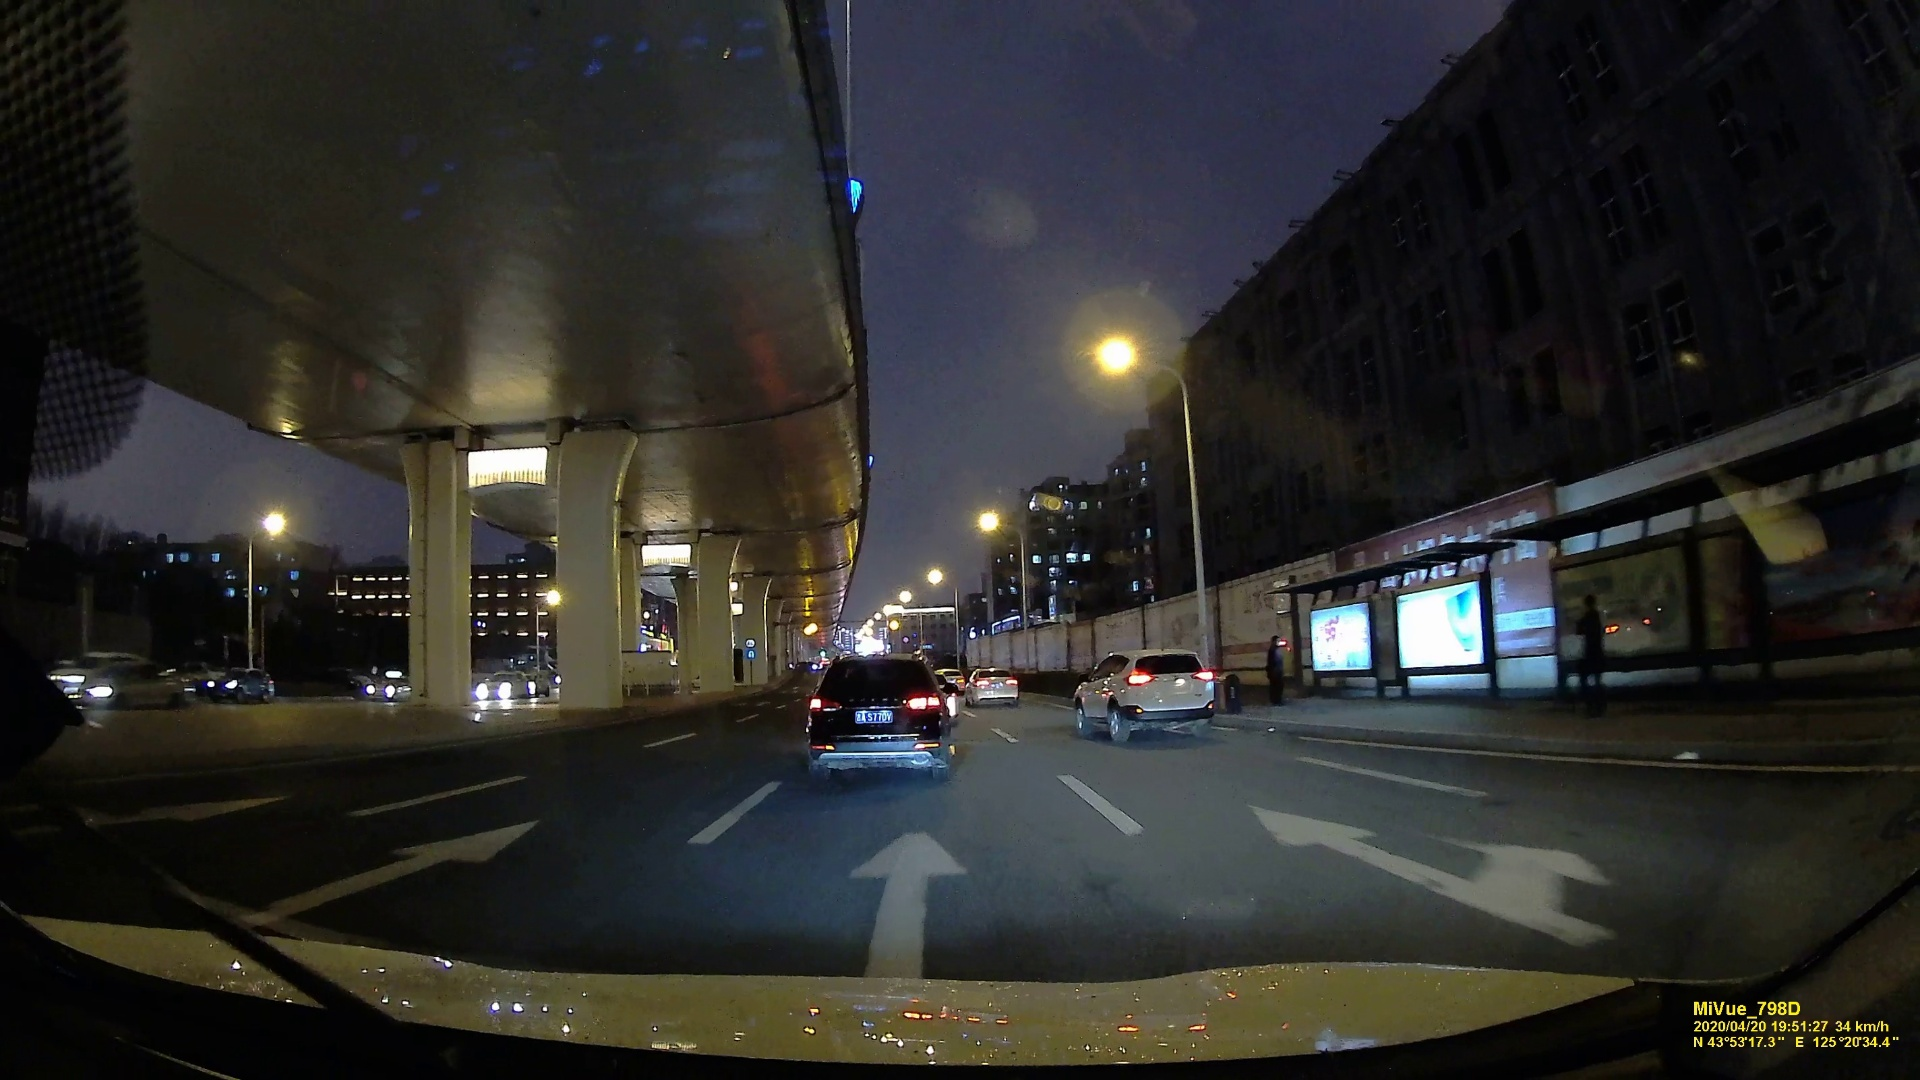person: (1573, 600, 1609, 684), (1266, 633, 1287, 709)
vehicle: (800, 662, 954, 786), (1072, 647, 1222, 739), (66, 666, 184, 716), (202, 665, 272, 700), (965, 667, 1020, 705), (471, 674, 531, 701), (362, 681, 407, 699)
